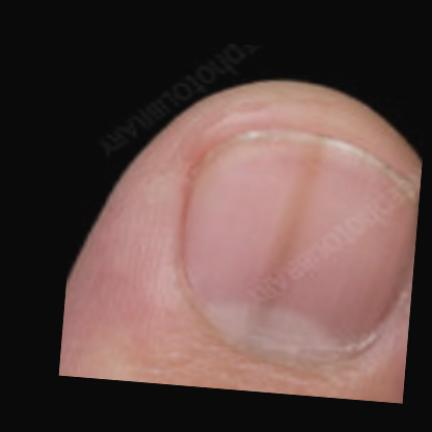Nail: (183, 133, 415, 368)
